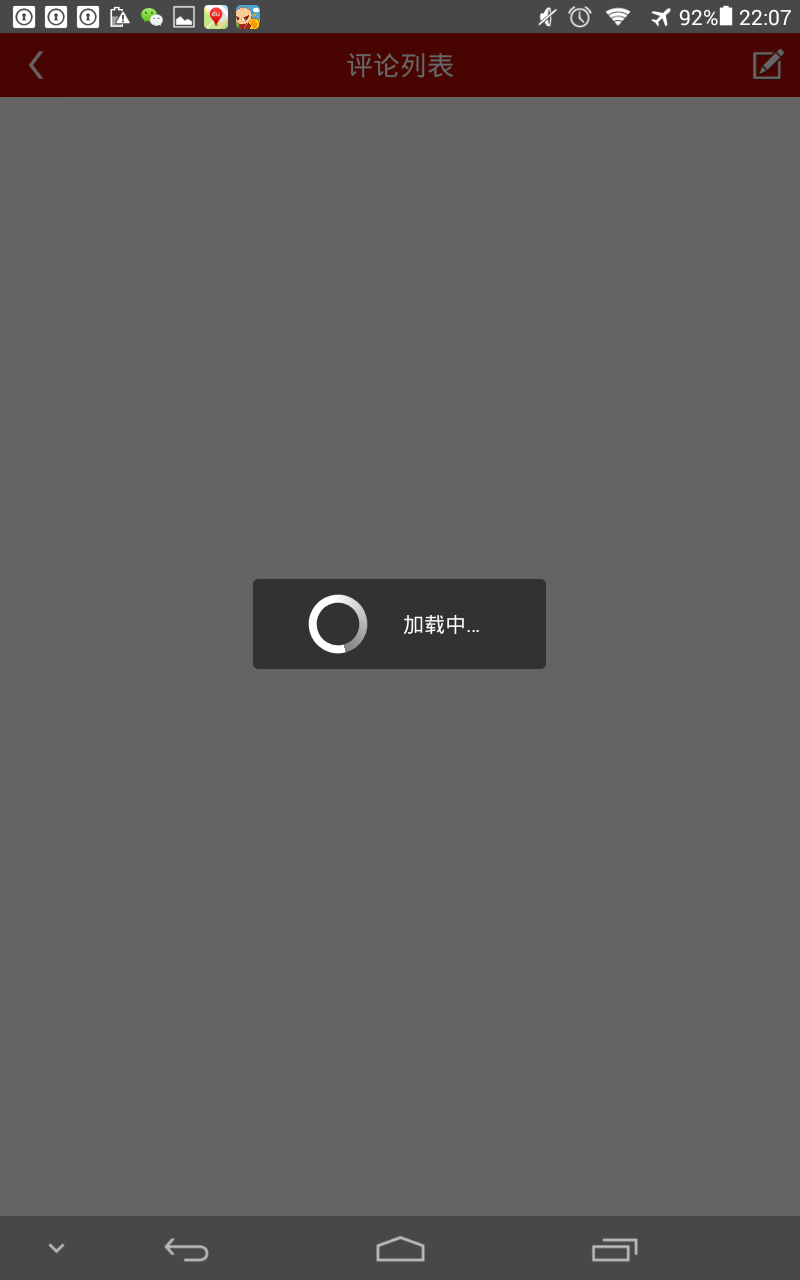alert: (229, 567, 568, 684)
